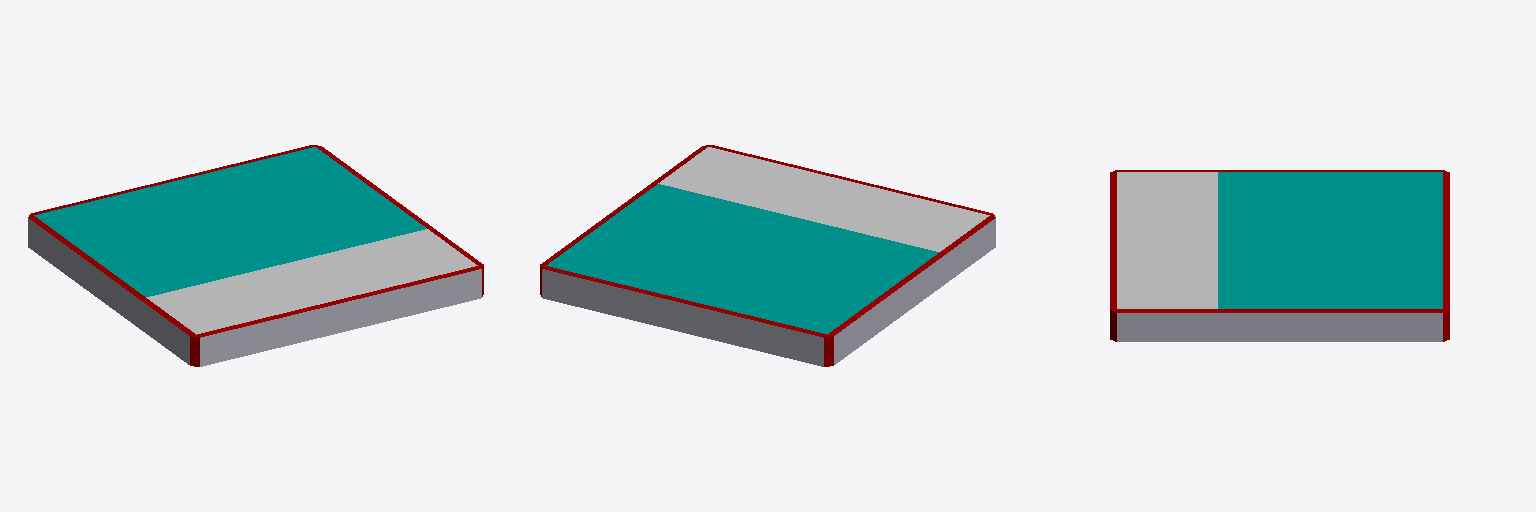
File: tile-shop.obj
3 views of the same model, side by side, from view 1: azimuth 30°, elevation 25°; view 2: azimuth 150°, elevation 25°; view 3: azimuth 270°, elevation 25° (orthographic).
Parts seen in each view (by area): view 1: Cube; view 2: Cube; view 3: Cube.
Part boxes in pixels (x1,y1,x2,y2): Cube: (28,145,483,366); Cube: (540,145,995,366); Cube: (1110,170,1449,341).
Size of the model in its own units: 2 by 0.2 by 2.